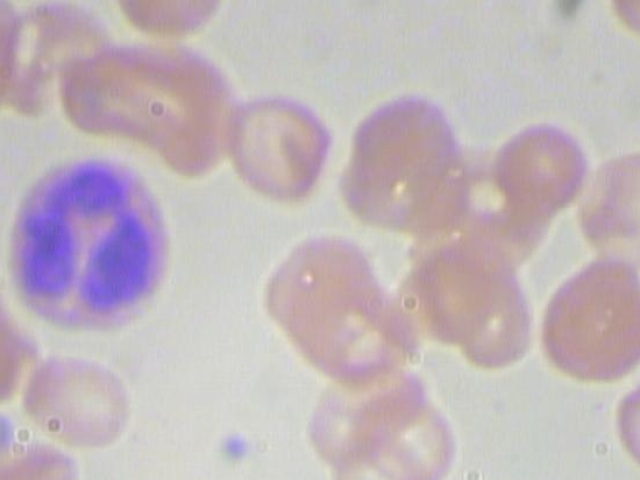RBC: (338, 85, 480, 231), (261, 225, 386, 355), (218, 85, 341, 202), (534, 250, 640, 380), (11, 349, 140, 445), (352, 383, 466, 480), (491, 118, 595, 206), (110, 0, 233, 45), (0, 0, 31, 127), (0, 298, 34, 405)
WBC: (0, 150, 190, 343), (213, 428, 251, 463)
